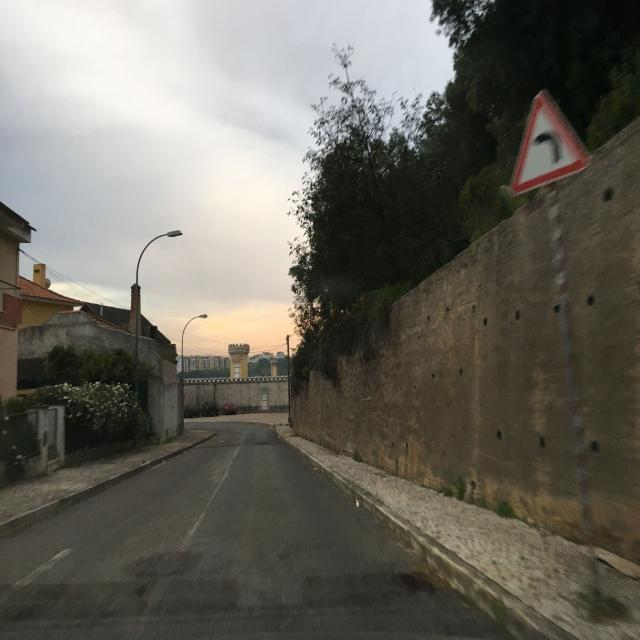car: (202, 400, 219, 417), (222, 400, 238, 415)
